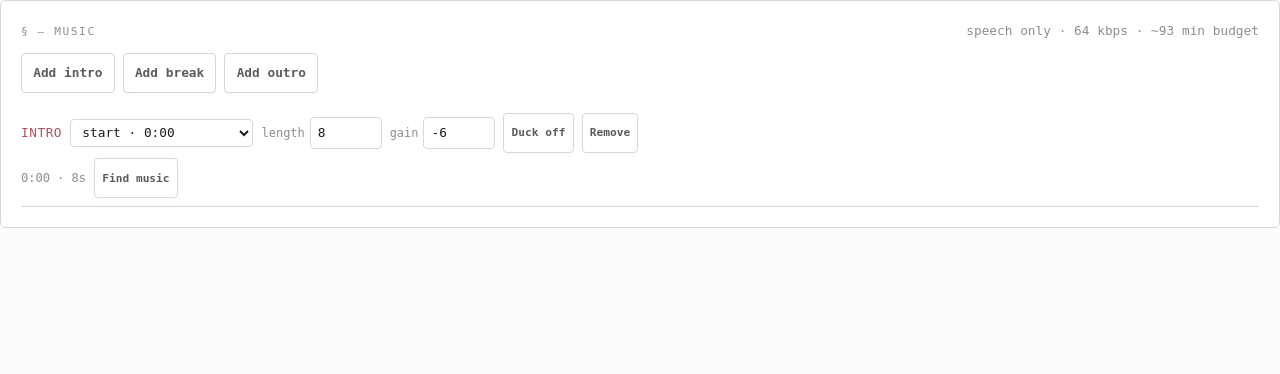
Test: MusicSlotPanel › says so when the search is rate limited rather than showing nothing
This screenshot has width=1280, height=374.
Click the button "Find music" at (136, 178), box x1=94 y1=158 x2=178 y2=198
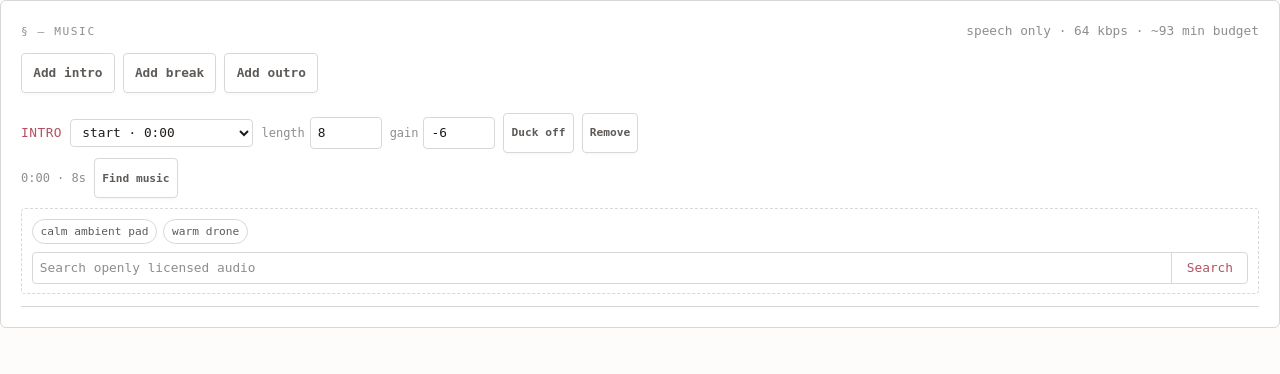
Click the button with class "chip" showing "calm ambient pad" at (94, 231), box x1=32 y1=219 x2=157 y2=244
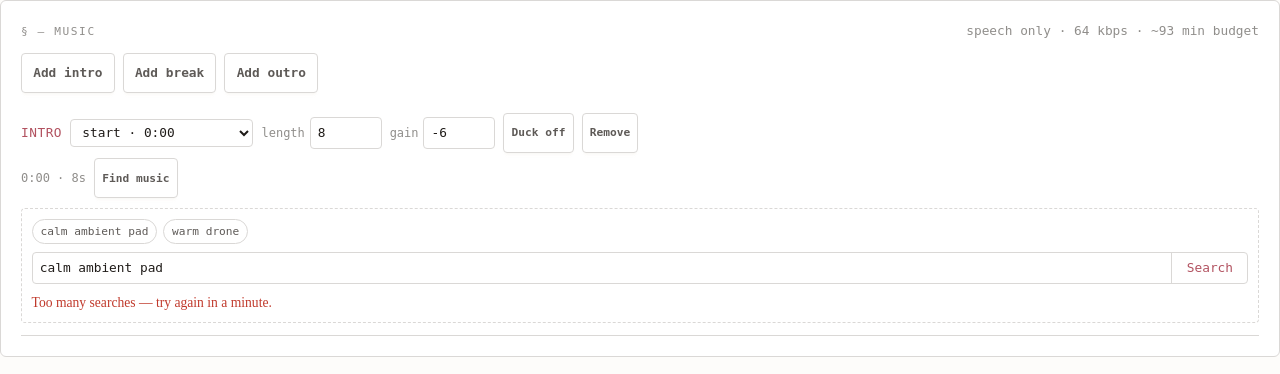
Check: the text with class "error" shows "minute", box x1=32 y1=295 x2=272 y2=310
